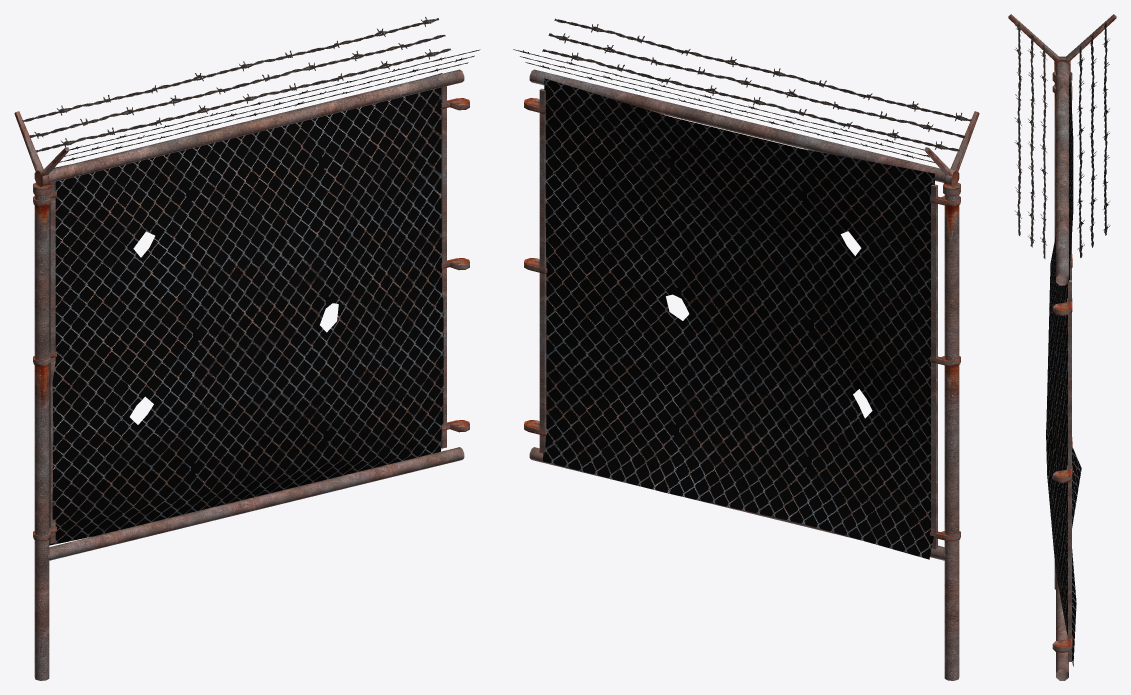
The model's file is Fence01.FBX.
3 renders of one model, left to right at view 1: azimuth 30°, elevation 25°; view 2: azimuth 150°, elevation 25°; view 3: azimuth 270°, elevation 25°, orthographic. The views are drawn at different scales.
Parts seen in each view (by area): view 1: CLFence01Link:0, CLFence01:0; view 2: CLFence01Link:0, CLFence01:0; view 3: CLFence01:0, CLFence01Link:0.
Boxes of the visible parts, left/top/right/bottom form: CLFence01Link:0: left=49, top=73, right=443, bottom=545; CLFence01:0: left=14, top=17, right=480, bottom=680; CLFence01Link:0: left=543, top=78, right=934, bottom=559; CLFence01:0: left=513, top=18, right=979, bottom=680; CLFence01:0: left=1008, top=14, right=1116, bottom=680; CLFence01Link:0: left=1046, top=70, right=1081, bottom=666.
Bounding box in the file's own units: 2.66 × 3.2 × 0.5472.
